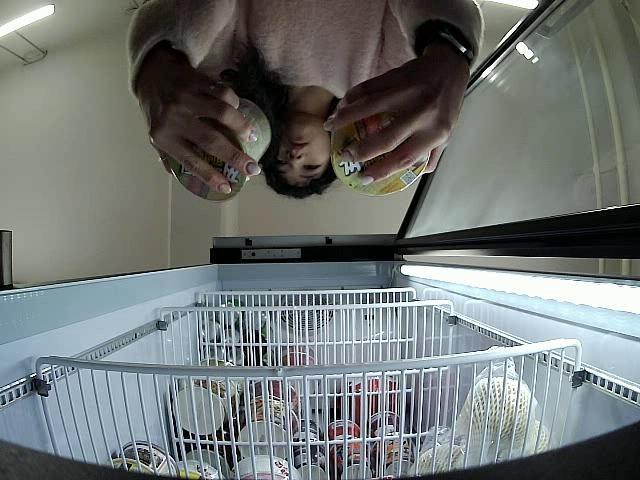04_chapagetti_S: (168, 99, 270, 200), (329, 111, 430, 193)
